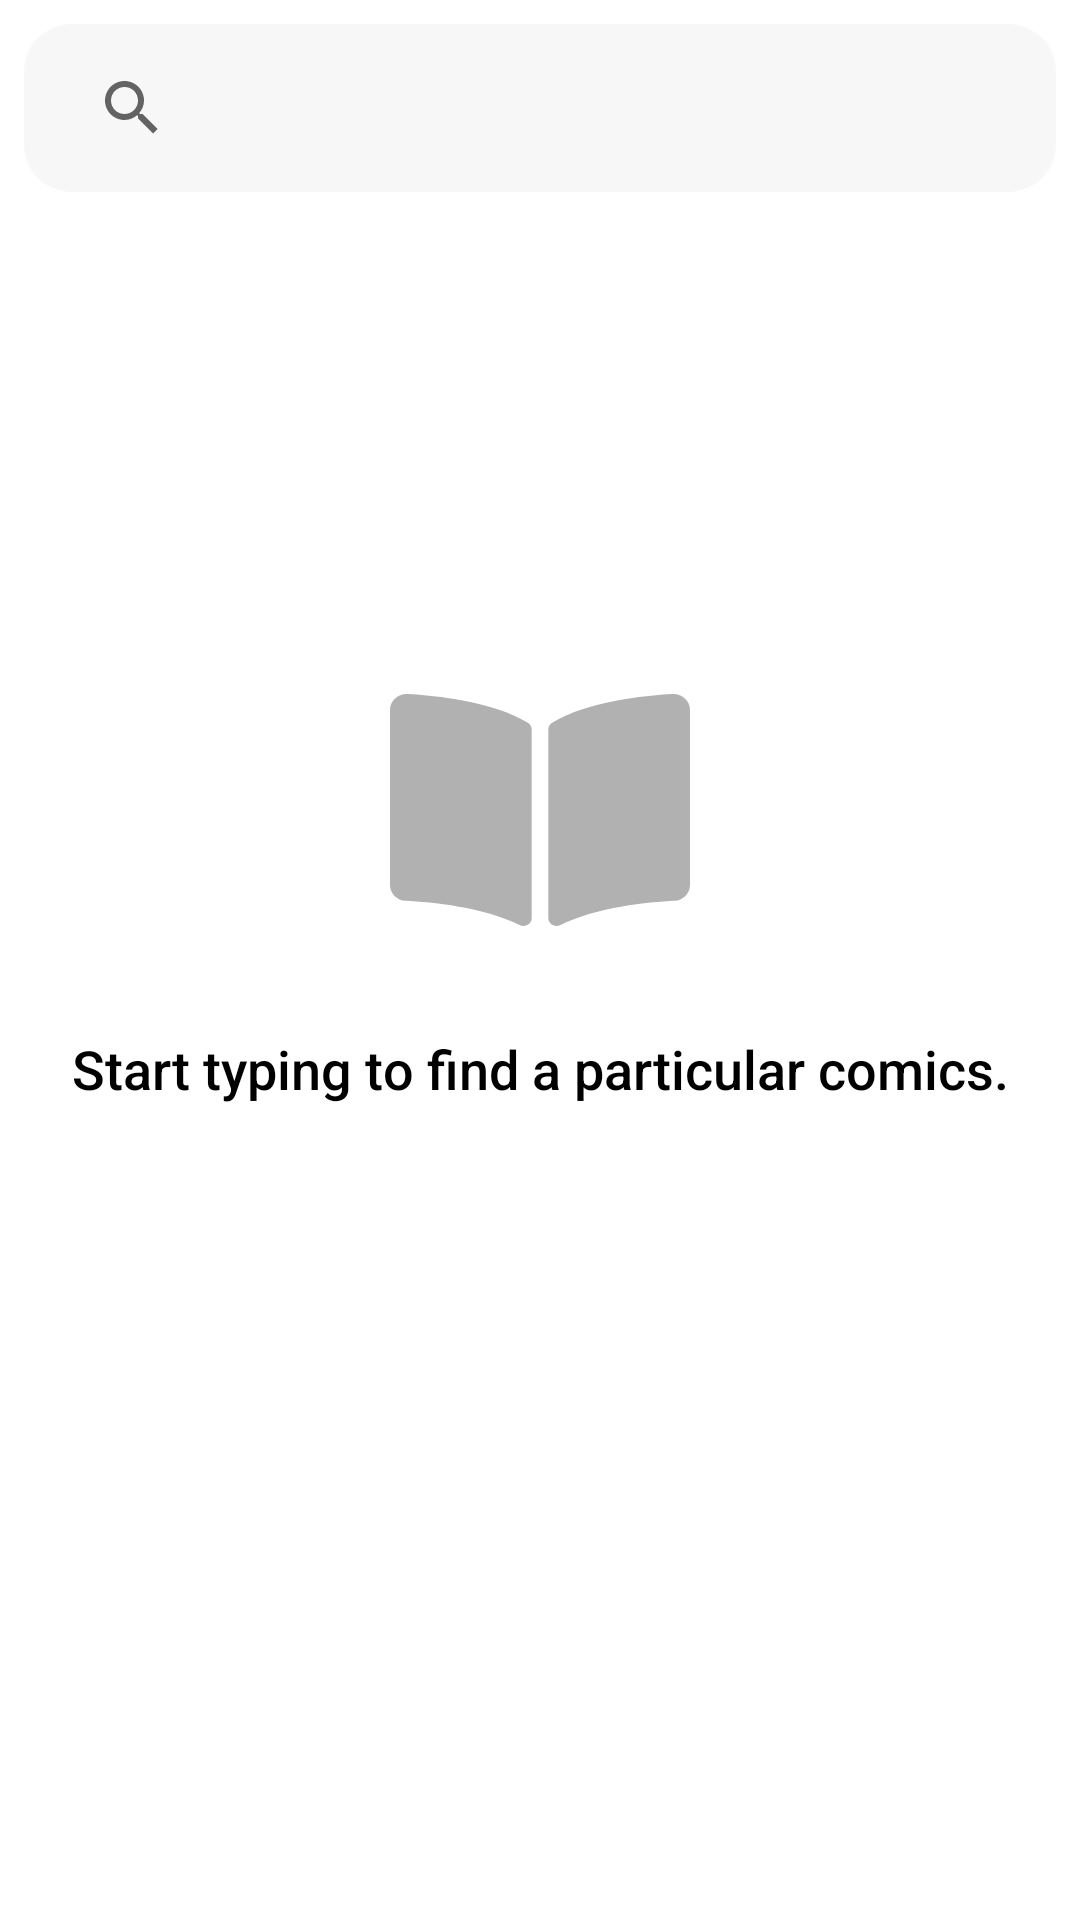

Screen size 1080 × 1920. Icon name, then its center in pixels as (x,y):
book open: (540,810)
